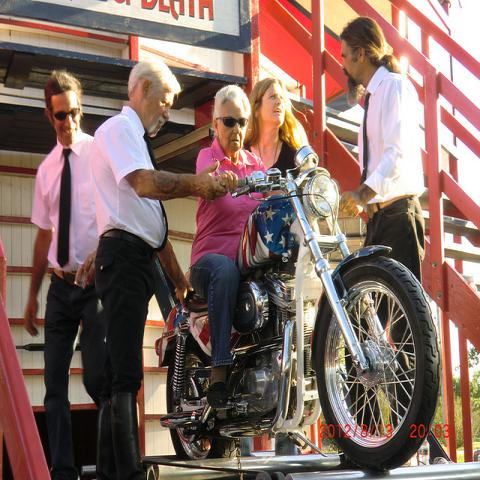motorcycle: (155, 146, 441, 470)
